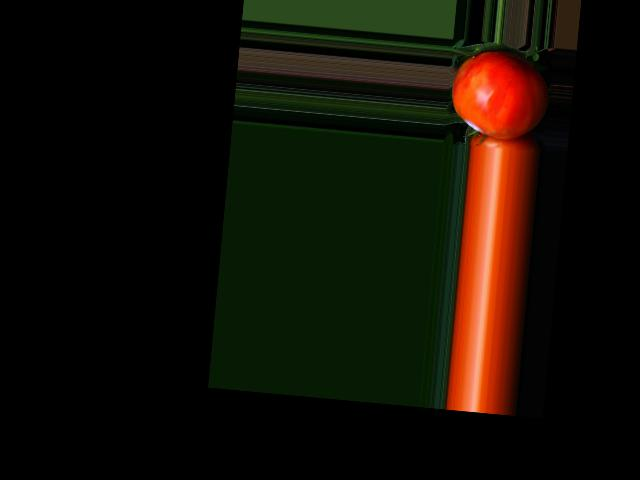tomato: (448, 47, 552, 142)
